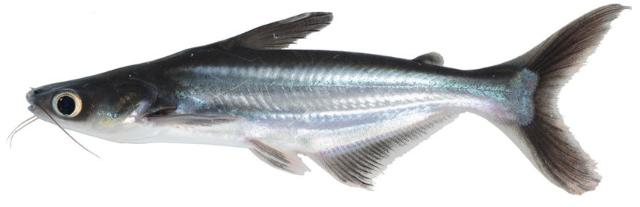Mulut: (21, 94, 90, 132)
Sirip Anal: (319, 101, 471, 194)
Sirip Dada: (144, 97, 246, 136)
Sirip Ekor: (522, 3, 636, 197)
Sirip Perut: (238, 134, 314, 186)
Sirip Punggung: (226, 8, 340, 50)
